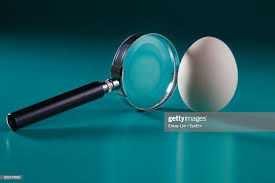egg: (177, 36, 238, 113)
